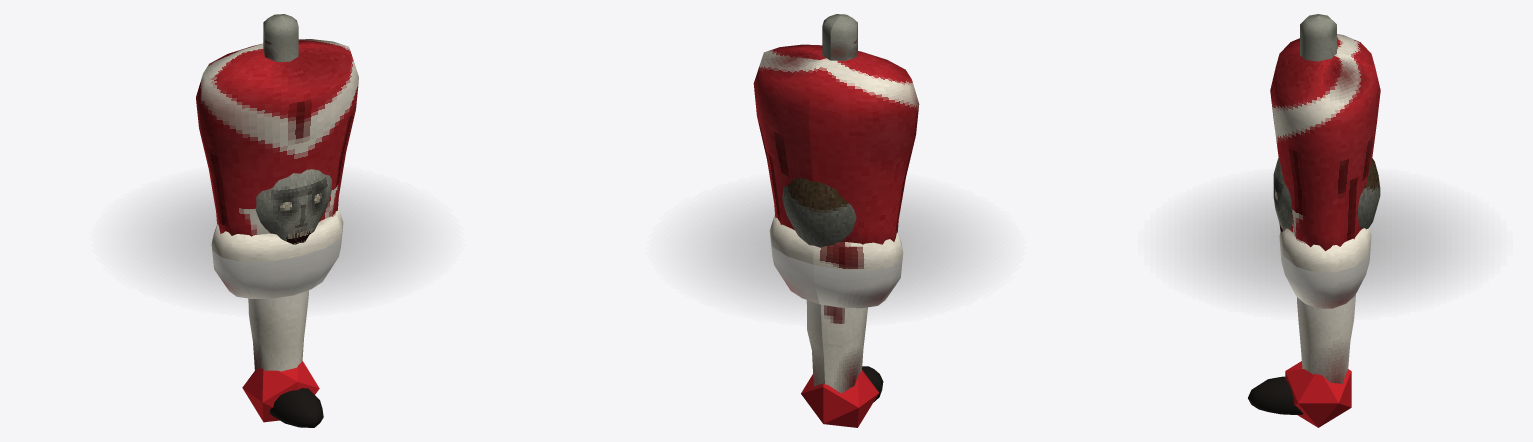
The picture shows the model from 3 angles, left to right: view 1: azimuth 30°, elevation 25°; view 2: azimuth 150°, elevation 25°; view 3: azimuth 270°, elevation 25°; orthographic projection.
Visible parts, largest first — view 1: root__x__10, spine__x__1, core__x__0, head__h__3, legL1__x__11, armL2__x__6, legL2__x__13, spine__x__2; view 2: root__x__10, spine__x__1, core__x__0, legL1__x__11, head__h__3, armL2__x__6, spine__x__2; view 3: root__x__10, spine__x__1, core__x__0, legL1__x__11, armL2__x__6, head__h__3, spine__x__2, legL2__x__13.
Part boxes in pixels (x1=…): root__x__10: x1=115, y1=177, x2=439, y2=307; spine__x__1: x1=196, y1=39, x2=358, y2=236; core__x__0: x1=211, y1=206, x2=343, y2=298; head__h__3: x1=255, y1=169, x2=331, y2=244; legL1__x__11: x1=248, y1=290, x2=308, y2=371; armL2__x__6: x1=242, y1=361, x2=319, y2=422; legL2__x__13: x1=269, y1=388, x2=323, y2=427; spine__x__2: x1=263, y1=14, x2=298, y2=61; root__x__10: x1=672, y1=184, x2=999, y2=316; spine__x__1: x1=753, y1=44, x2=919, y2=244; core__x__0: x1=769, y1=214, x2=903, y2=308; legL1__x__11: x1=806, y1=300, x2=867, y2=393; head__h__3: x1=782, y1=178, x2=856, y2=247; armL2__x__6: x1=801, y1=370, x2=878, y2=427; spine__x__2: x1=822, y1=14, x2=857, y2=60; root__x__10: x1=1163, y1=179, x2=1487, y2=311; spine__x__1: x1=1270, y1=34, x2=1380, y2=250; core__x__0: x1=1279, y1=227, x2=1371, y2=308; legL1__x__11: x1=1297, y1=294, x2=1355, y2=383; armL2__x__6: x1=1285, y1=361, x2=1351, y2=427; head__h__3: x1=1273, y1=158, x2=1380, y2=232; spine__x__2: x1=1300, y1=14, x2=1336, y2=61; legL2__x__13: x1=1248, y1=376, x2=1303, y2=414.
Size of the model in its own units: 1.09 by 1.26 by 1.09.
Materials: 8 (5 with a texture image).
